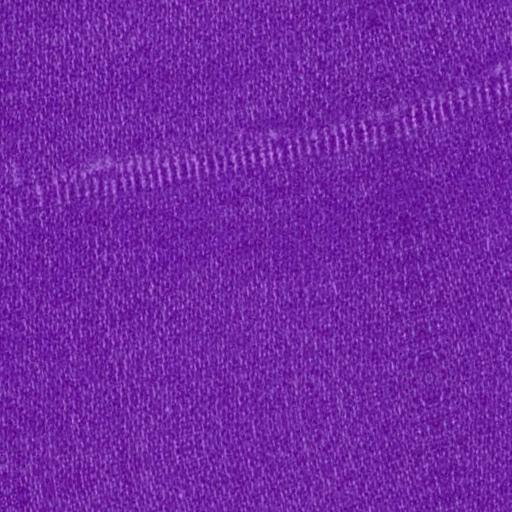slub: (30, 61, 511, 223)
